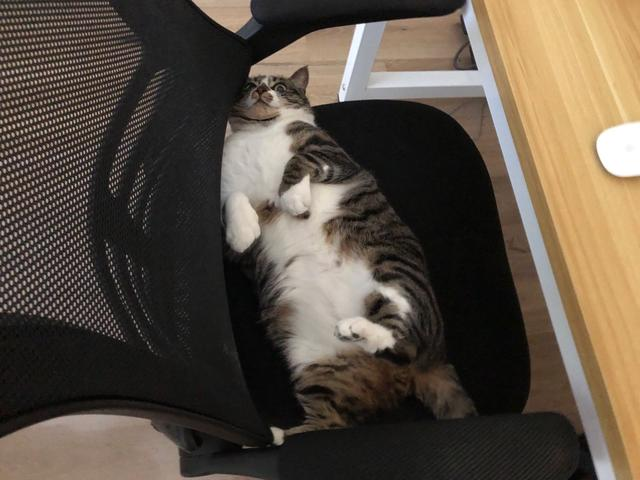playdoh: (212, 66, 481, 436)
